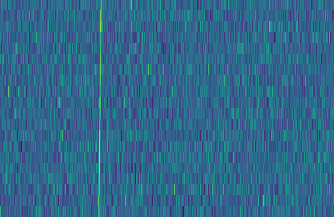signal: (92, 0, 103, 217)
